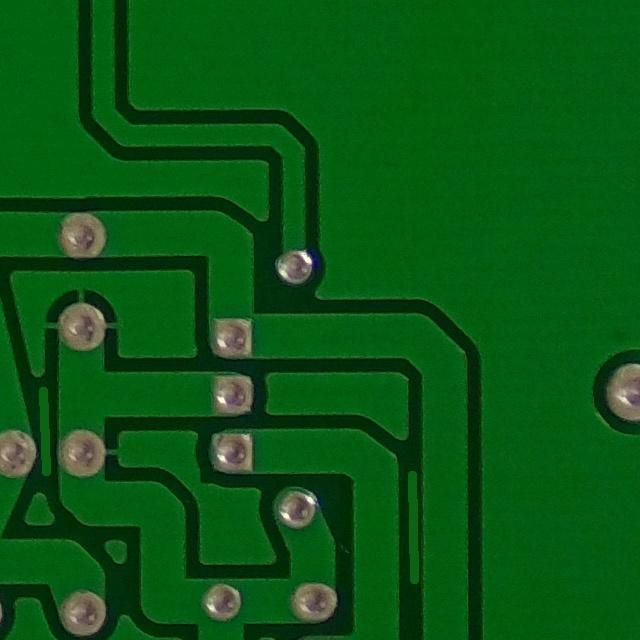spurious_copper: (12, 369, 80, 501), (399, 457, 434, 593)
